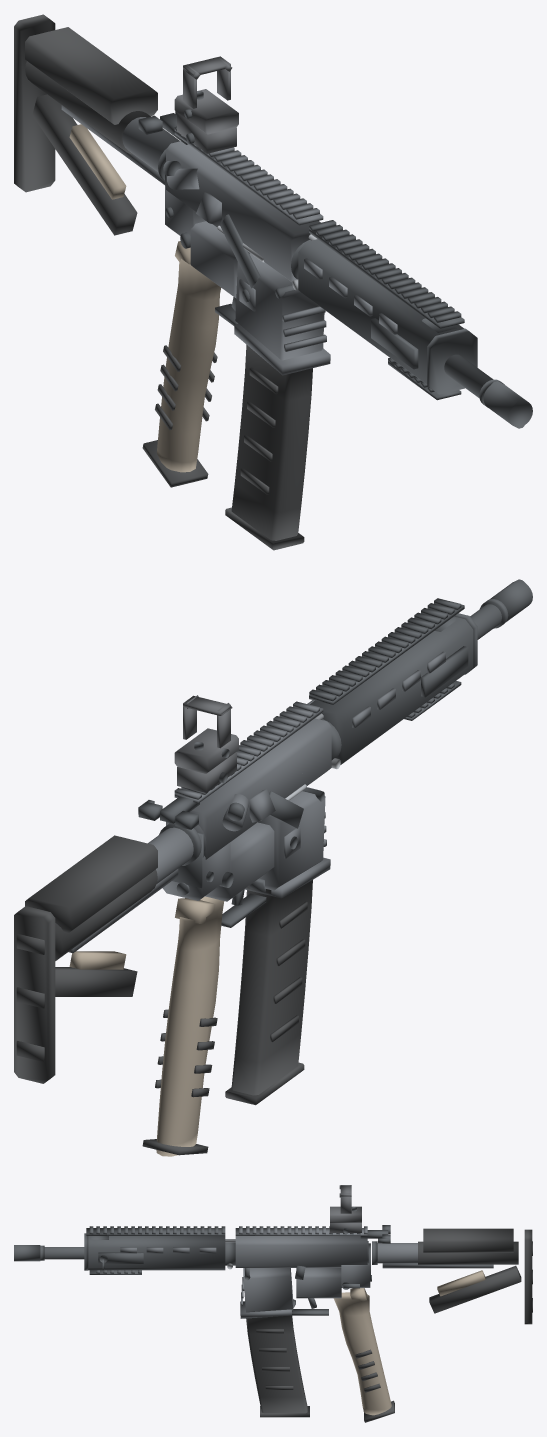
Rendered from carbine.glb.
3 renders of one model, top to bottom at view 1: azimuth 30°, elevation 25°; view 2: azimuth 150°, elevation 25°; view 3: azimuth 270°, elevation 25°, orthographic. The views are drawn at different scales.
Visible parts, largest first — view 1: body, mag; view 2: body, mag; view 3: body, mag.
Boxes of the visible parts, x1,y1,x2,y2 form: body: (14,14,532,487); mag: (225,344,312,550); body: (14,579,532,1156); mag: (225,880,312,1105); body: (14,1185,532,1422); mag: (246,1310,309,1417).
Bounding box in the file's own units: 0.0698 × 0.3634 × 0.747.
